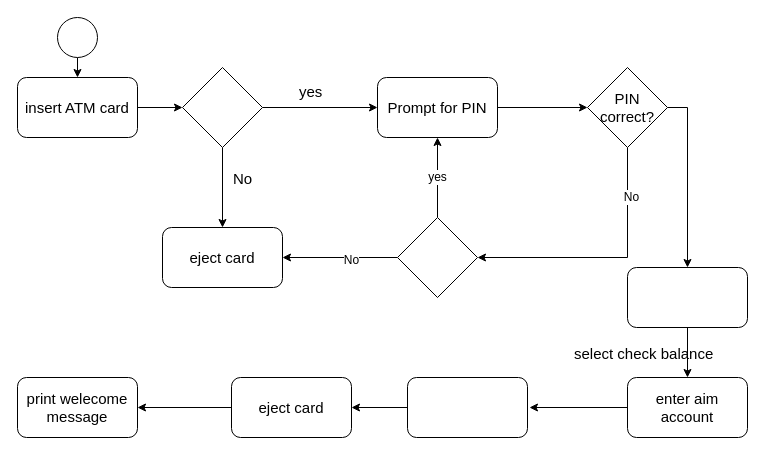
Image size: 765x455. Some labels were removed from this diagram. The centre of each missing label's shape, as x and y in pixels:
"<3 tries" goes at (437,257).
"print balance" goes at (467,407).
"prompt for transaction" goes at (687,297).
"valid card?" goes at (222,107).
